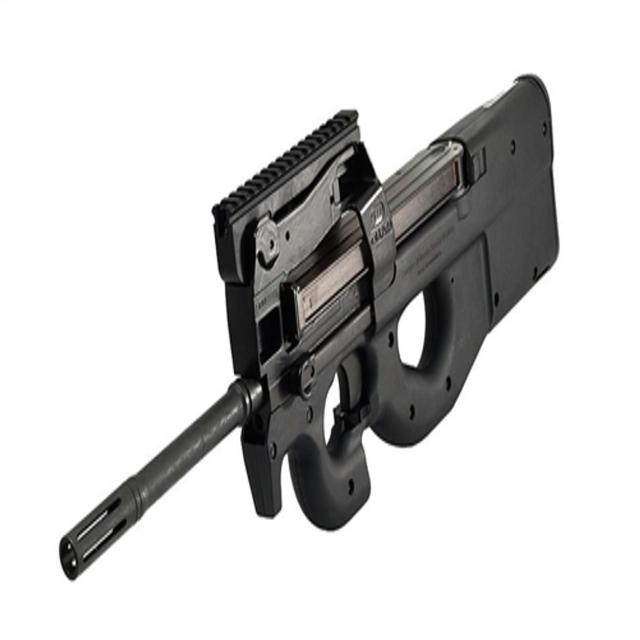SMG: (58, 75, 562, 583)
